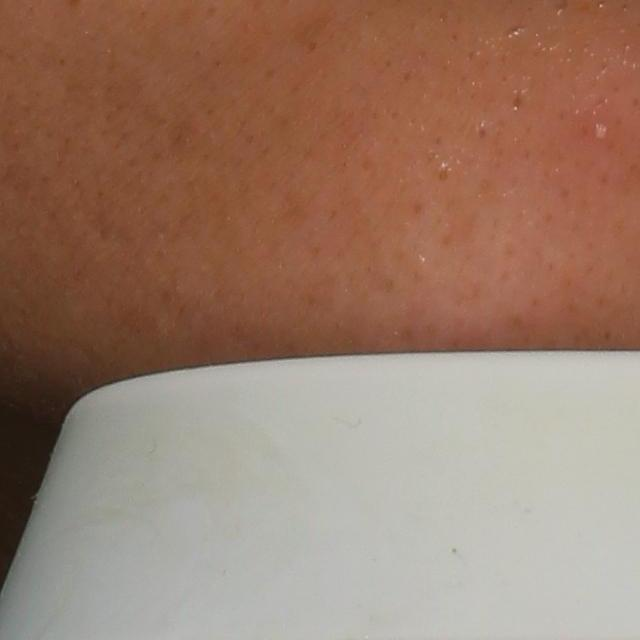pustule: (588, 117, 615, 144)
